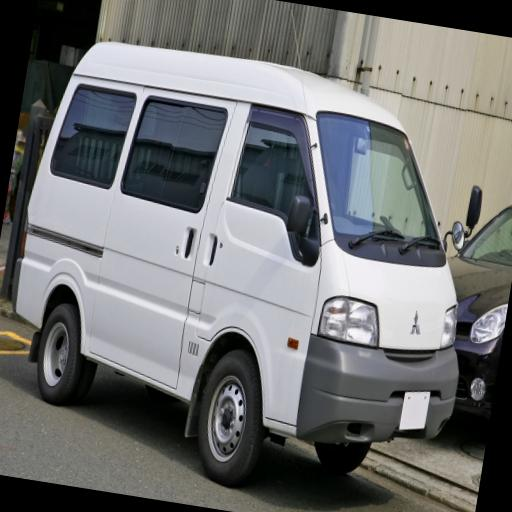van: (12, 42, 457, 485)
